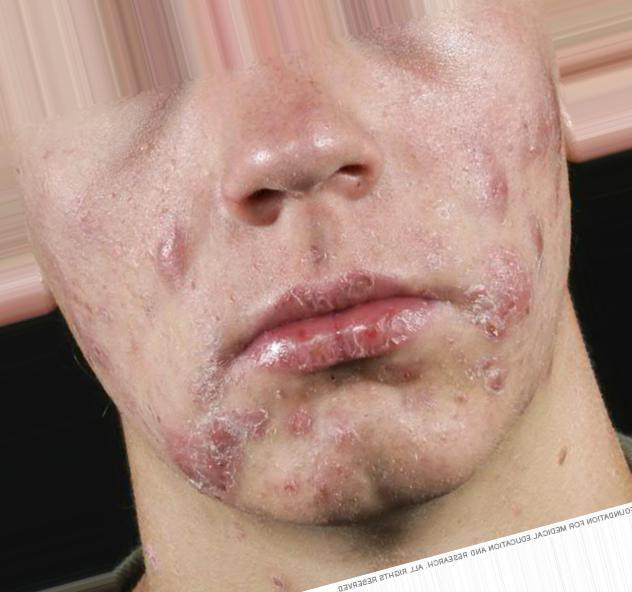Acne: (177, 409, 279, 504), (461, 243, 542, 339), (479, 153, 560, 226), (459, 339, 536, 412), (125, 211, 202, 276)
